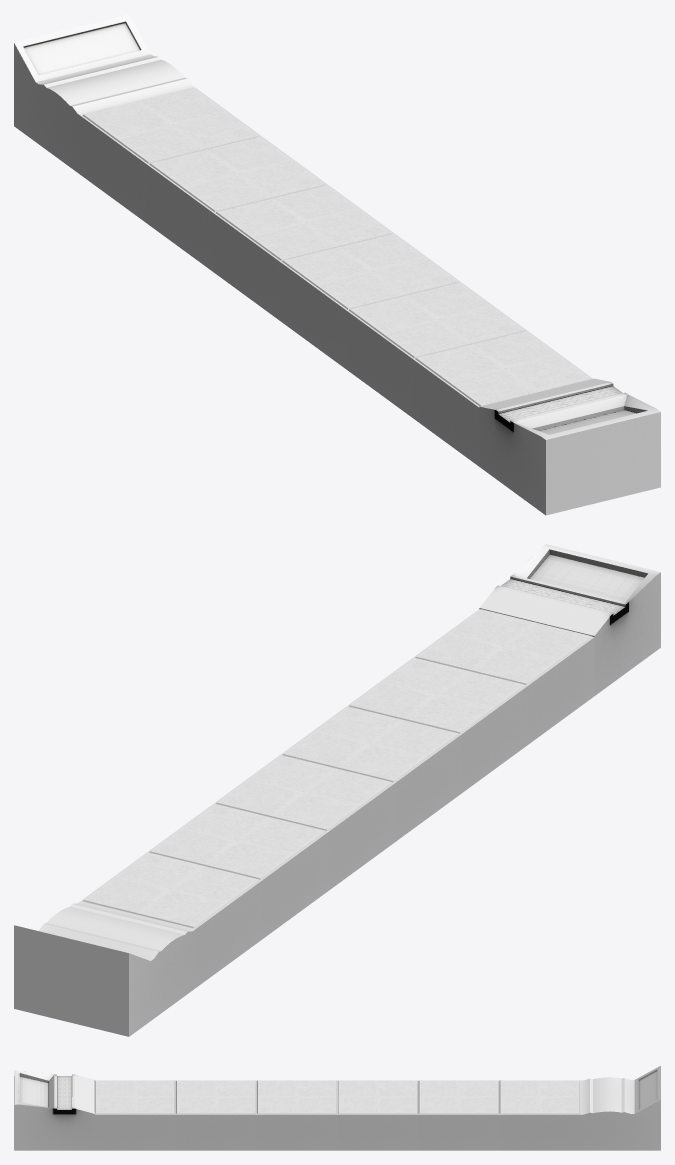
Rendered from WallSolid_1_6.fbx.
3 views of the same model, one above another, from view 1: azimuth 30°, elevation 25°; view 2: azimuth 150°, elevation 25°; view 3: azimuth 270°, elevation 25° (orthographic). The views are drawn at different scales.
Visible parts, largest first — view 1: Wall_solid_1_6; view 2: Wall_solid_1_6; view 3: Wall_solid_1_6.
Boxes of the visible parts, x1=… form: Wall_solid_1_6: x1=14, y1=14, x2=660, y2=515; Wall_solid_1_6: x1=14, y1=544, x2=660, y2=1036; Wall_solid_1_6: x1=14, y1=1065, x2=660, y2=1150.
Size of the model in its own units: 1 by 0.6947 by 8.
